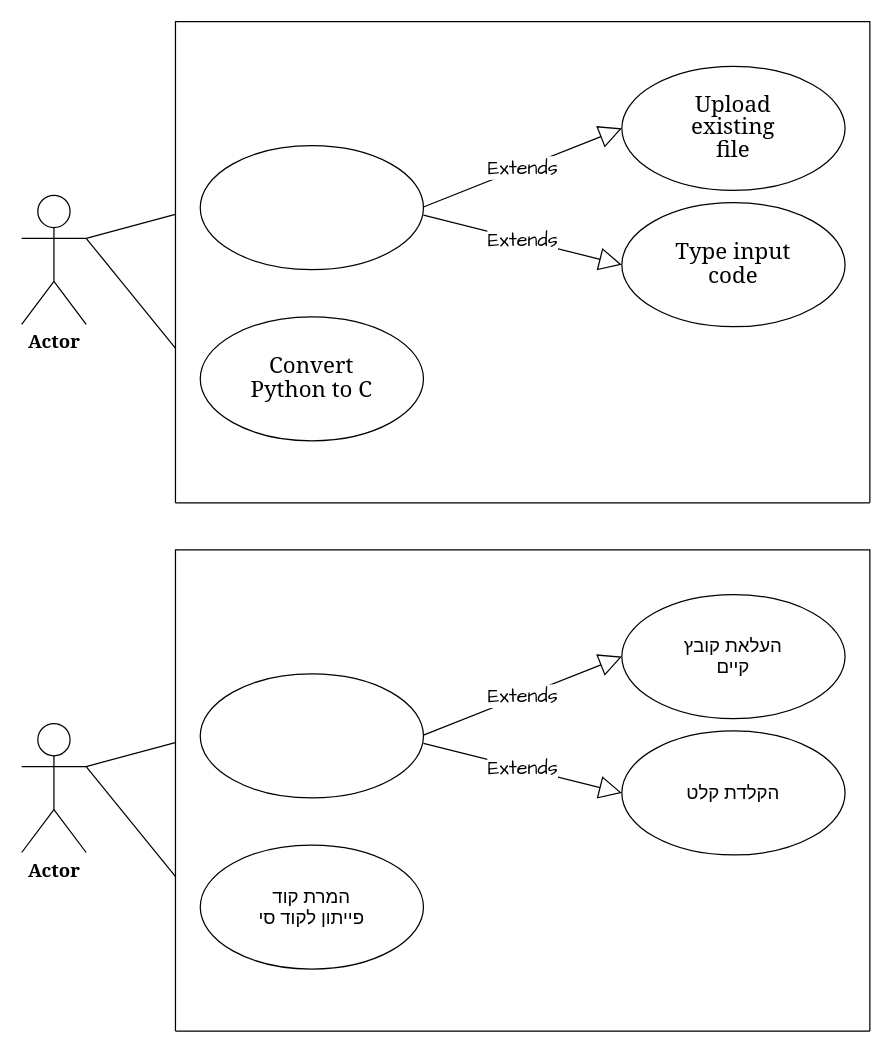
Some shapes in this 892 by 1053 pixel diagram are drawn without their labels. The shapes that lost their labels are listed below. From the top down, each one's centre as x and y in pixels, then its label:
point 311,207: Insert Python input code
point 311,735: הכנסת קוד קלט בשפת פייתון
